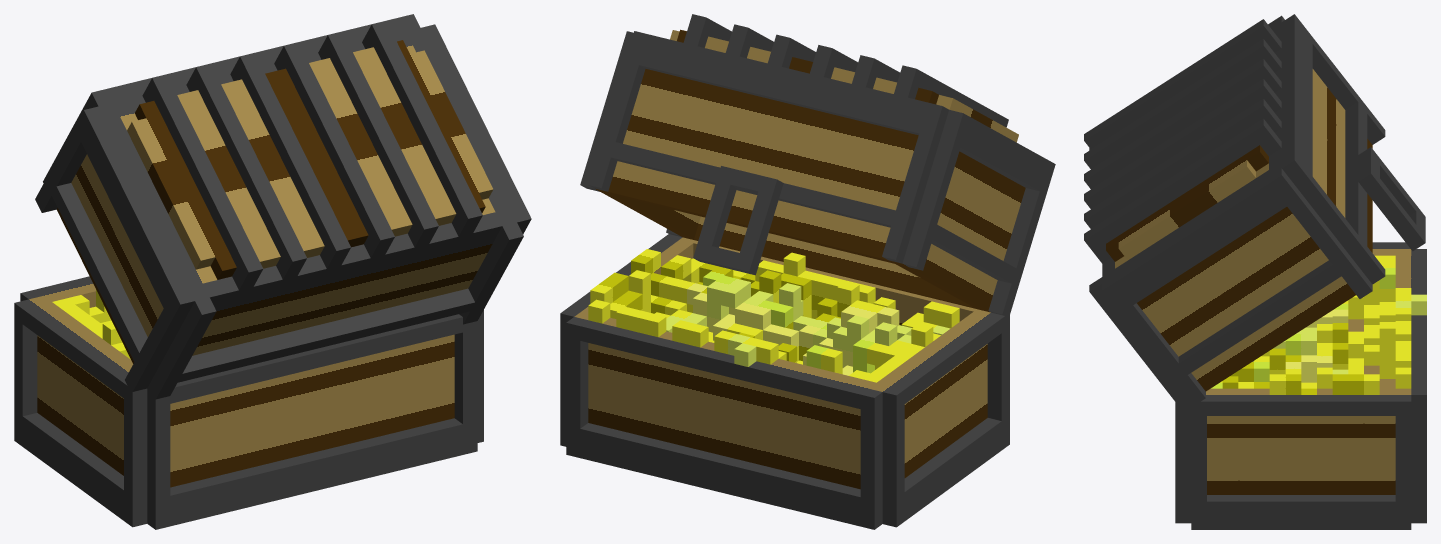
The model's file is Cofre.dae.
3 renders of one model, left to right at view 1: azimuth 30°, elevation 25°; view 2: azimuth 150°, elevation 25°; view 3: azimuth 270°, elevation 25°, orthographic. The views are drawn at different scales.
Parts seen in each view (by area): view 1: Node (1)-local, Node-local; view 2: Node-local, Node (1)-local; view 3: Node (1)-local, Node-local.
Boxes of the visible parts, left/top/right/bottom form: Node (1)-local: left=35, top=14, right=531, bottom=403; Node-local: left=14, top=276, right=483, bottom=529; Node-local: left=560, top=234, right=1009, bottom=529; Node (1)-local: left=580, top=14, right=1055, bottom=317; Node (1)-local: left=1084, top=14, right=1425, bottom=407; Node-local: left=1175, top=242, right=1426, bottom=529.
Bounding box in the file's own units: 24 × 26.55 × 21.82.
2 materials, 2 textured.
